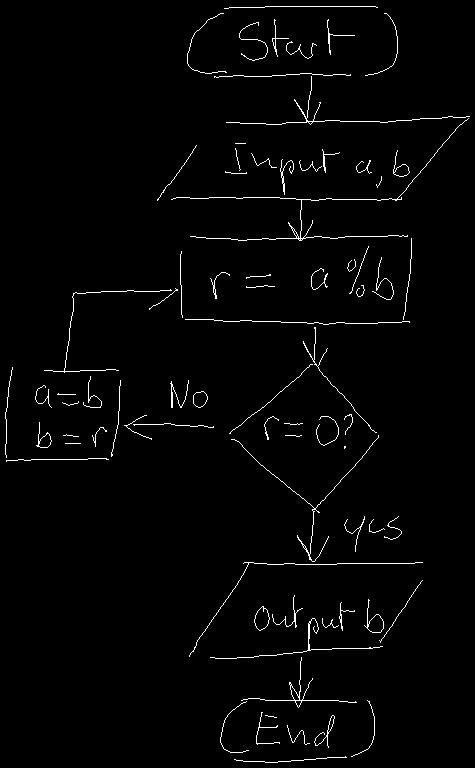arrow: (64, 288, 177, 372), (124, 415, 213, 439), (297, 511, 328, 561), (294, 76, 320, 124), (289, 657, 312, 707), (288, 199, 312, 240), (303, 327, 327, 366)
data: (157, 116, 469, 200), (189, 562, 422, 658)
decision: (229, 364, 378, 512)
process: (180, 235, 411, 324), (5, 367, 120, 461)
terminator: (187, 6, 397, 77), (220, 698, 374, 762)
text: (210, 246, 393, 299), (225, 143, 409, 194), (254, 595, 383, 649), (35, 376, 106, 447), (239, 19, 354, 60), (264, 414, 352, 448), (256, 712, 334, 747), (344, 516, 401, 551), (170, 380, 207, 407)
